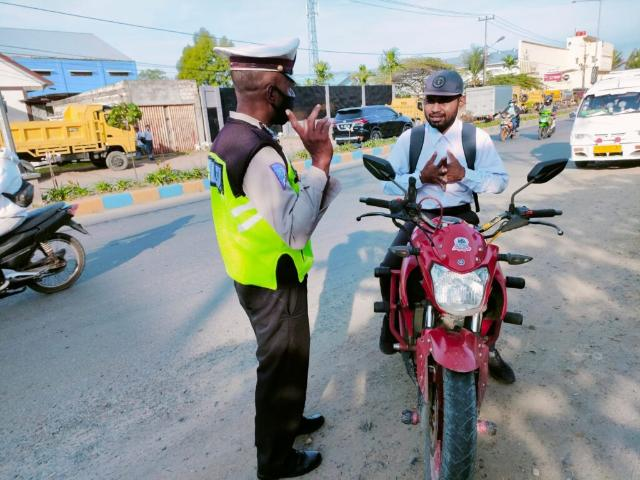motor: (358, 151, 573, 480)
non-helm: (416, 71, 466, 134)
